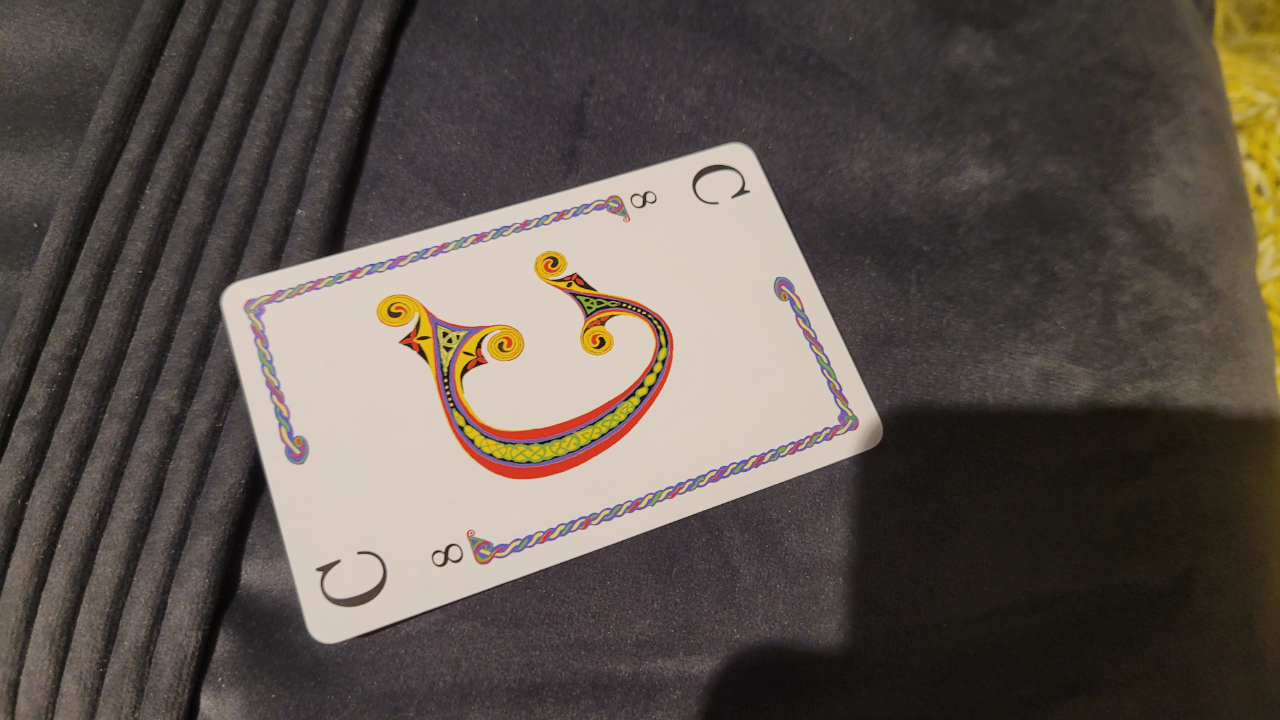quiddler_card: (215, 130, 891, 651)
